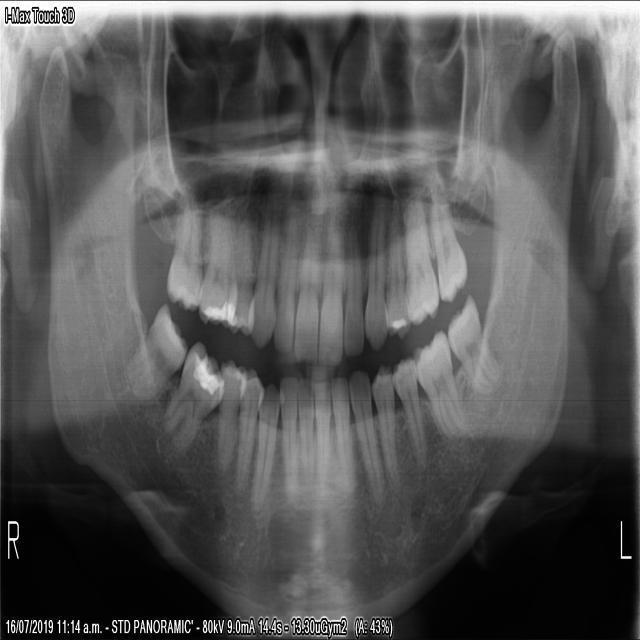LCD: (345, 364, 385, 502)
LCU: (361, 204, 389, 353)
LID: (328, 368, 355, 495), (312, 376, 331, 490)
LIU: (316, 210, 343, 371), (340, 218, 364, 362)
LMD: (442, 282, 502, 400), (408, 323, 465, 445)
LMU: (426, 171, 469, 307), (402, 188, 439, 327)
LPMD: (389, 347, 429, 472), (369, 359, 402, 483)
LPMU: (383, 191, 411, 341)
RCD: (247, 378, 281, 516)
RCU: (244, 195, 279, 351)
RID: (276, 365, 300, 508), (295, 371, 315, 495)
RIU: (269, 197, 298, 356), (292, 216, 320, 367)
RMD: (158, 335, 224, 460), (123, 294, 189, 407)
RMU: (195, 200, 237, 329), (163, 188, 203, 314)
RPMD: (231, 359, 264, 501), (212, 352, 249, 478)
RPMU: (224, 210, 254, 339)
